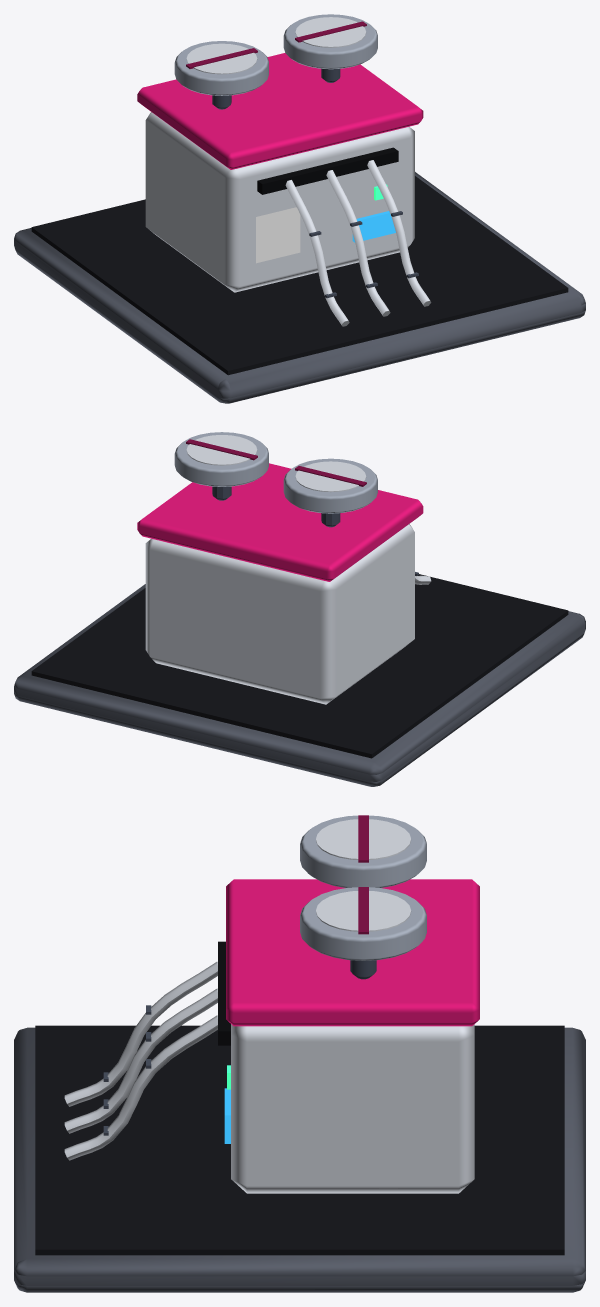
The model's file is cloudtrail.glb.
3 renders of one model, top to bottom at view 1: azimuth 30°, elevation 25°; view 2: azimuth 150°, elevation 25°; view 3: azimuth 270°, elevation 25°, orthographic. The views are drawn at different scales.
Visible parts, largest first — view 1: body.rubber, body.white, body.concrete, body.accent, spin_reelR.steel_light, spin_reelL.steel_light, body.vent, body.badge, spin_reelR.white, spin_reelL.white, body.steel, body.screen; view 2: body.rubber, body.white, body.concrete, body.accent, spin_reelR.steel_light, spin_reelL.steel_light, spin_reelR.white, spin_reelL.white, body.steel; view 3: body.rubber, body.white, body.concrete, body.accent, spin_reelR.steel_light, spin_reelL.steel_light, spin_reelL.white, spin_reelR.white, body.vent, body.steel.
Boxes of the visible parts, x1=… form: body.rubber: x1=31, y1=176, x2=568, y2=375; body.white: x1=145, y1=112, x2=431, y2=326; body.concrete: x1=14, y1=172, x2=585, y2=403; body.accent: x1=137, y1=53, x2=423, y2=169; spin_reelR.steel_light: x1=283, y1=14, x2=377, y2=69; spin_reelL.steel_light: x1=174, y1=41, x2=268, y2=95; body.vent: x1=257, y1=147, x2=398, y2=194; body.badge: x1=256, y1=207, x2=300, y2=263; spin_reelR.white: x1=295, y1=17, x2=366, y2=47; spin_reelL.white: x1=186, y1=43, x2=257, y2=74; body.steel: x1=212, y1=68, x2=418, y2=298; body.screen: x1=352, y1=211, x2=395, y2=242; body.rubber: x1=31, y1=574, x2=568, y2=758; body.white: x1=145, y1=524, x2=431, y2=704; body.concrete: x1=14, y1=584, x2=585, y2=786; body.accent: x1=137, y1=463, x2=423, y2=581; spin_reelR.steel_light: x1=174, y1=432, x2=268, y2=486; spin_reelL.steel_light: x1=283, y1=458, x2=377, y2=513; spin_reelR.white: x1=186, y1=435, x2=257, y2=465; spin_reelL.white: x1=295, y1=461, x2=366, y2=492; body.steel: x1=212, y1=486, x2=418, y2=575; body.rubber: x1=35, y1=1025, x2=564, y2=1255; body.white: x1=64, y1=961, x2=474, y2=1193; body.concrete: x1=14, y1=1027, x2=585, y2=1292; body.accent: x1=226, y1=879, x2=479, y2=1026; spin_reelR.steel_light: x1=300, y1=887, x2=426, y2=960; spin_reelL.steel_light: x1=300, y1=815, x2=426, y2=887; spin_reelL.white: x1=316, y1=819, x2=411, y2=859; spin_reelR.white: x1=316, y1=891, x2=411, y2=931; body.vent: x1=218, y1=941, x2=230, y2=1045; body.steel: x1=103, y1=960, x2=376, y2=1135.
Size of the model in its own units: 1.08 by 0.632 by 1.08.
